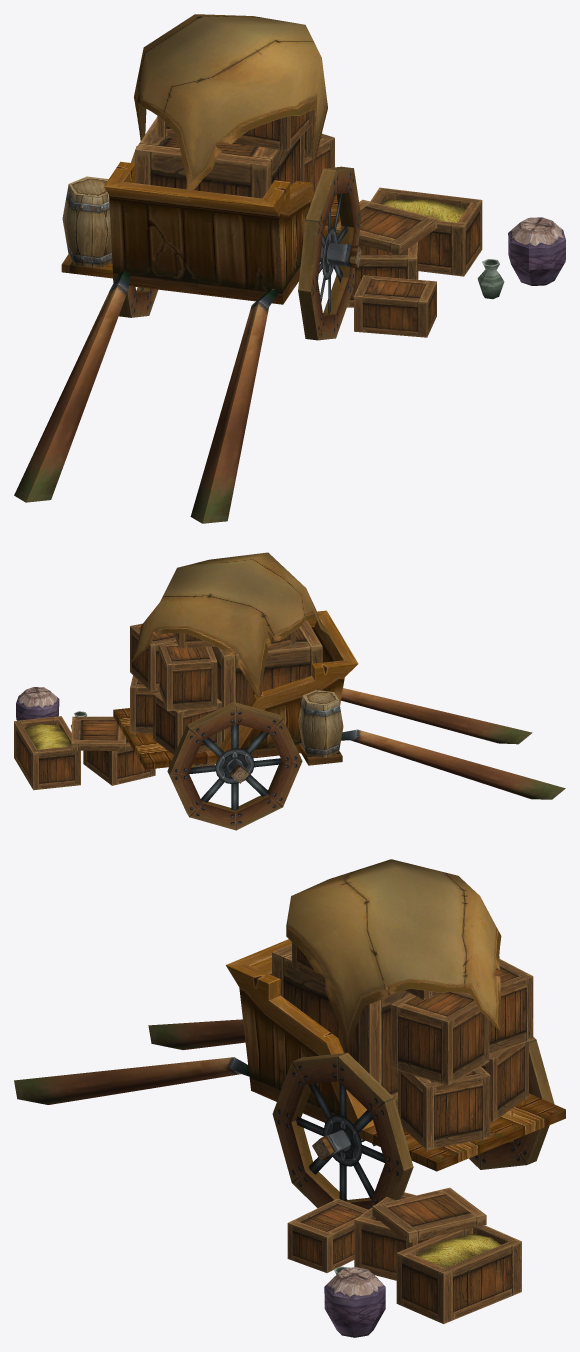
File: environment_common_shoutuiche_002.FBX
3 renders of one model, top to bottom at view 1: azimuth 30°, elevation 25°; view 2: azimuth 150°, elevation 25°; view 3: azimuth 270°, elevation 25°, orthographic. The views are drawn at different scales.
Parts seen in each view (by area): view 1: environment_common_shoutuiche_002_02, environment_common_muxiangzitui_001_01, environment_common_shoutuiche_002_01, environment_common_guanzi_001_01, environment_common_shuijing_001_04, environment_common_muxiangzitui_001_02; view 2: environment_common_shoutuiche_002_02, environment_common_muxiangzitui_001_01, environment_common_shoutuiche_002_01, environment_common_shuijing_001_04, environment_common_guanzi_001_01, environment_common_muxiangzitui_001_02; view 3: environment_common_muxiangzitui_001_01, environment_common_shoutuiche_002_02, environment_common_shoutuiche_002_01, environment_common_guanzi_001_01, environment_common_muxiangzitui_001_02.
Boxes of the visible parts, x1,y1,x2,y2 form: environment_common_shoutuiche_002_02: [14, 146, 361, 523]; environment_common_muxiangzitui_001_01: [135, 110, 482, 337]; environment_common_shoutuiche_002_01: [134, 14, 327, 191]; environment_common_guanzi_001_01: [477, 217, 565, 299]; environment_common_shuijing_001_04: [62, 176, 112, 267]; environment_common_muxiangzitui_001_02: [381, 199, 466, 222]; environment_common_shoutuiche_002_02: [113, 610, 565, 830]; environment_common_muxiangzitui_001_01: [14, 620, 322, 790]; environment_common_shoutuiche_002_01: [132, 552, 334, 698]; environment_common_shuijing_001_04: [298, 690, 343, 757]; environment_common_guanzi_001_01: [16, 687, 86, 729]; environment_common_muxiangzitui_001_02: [24, 724, 70, 749]; environment_common_muxiangzitui_001_01: [272, 942, 533, 1323]; environment_common_shoutuiche_002_02: [14, 939, 565, 1209]; environment_common_shoutuiche_002_01: [286, 859, 501, 1050]; environment_common_guanzi_001_01: [324, 1266, 385, 1337]; environment_common_muxiangzitui_001_02: [416, 1234, 501, 1267].
Size of the model in its own units: 619 by 297 by 454.
6 materials, 6 textured.
